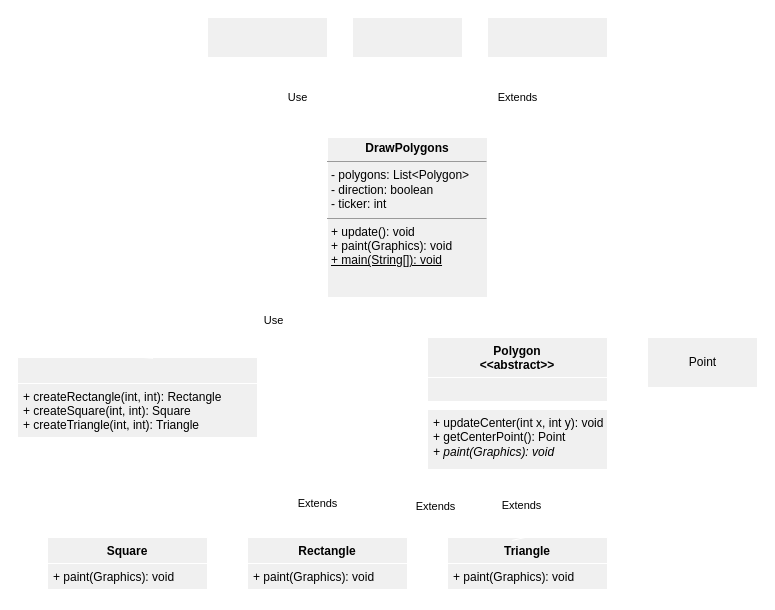
Image size: 775x610. Some labels were removed from this diagram. The box of each missing label's shape, as (x1, y1, x2, y2) in pixels:
- centerPoint: Point: (426, 376, 608, 402)
JComponent: (486, 16, 608, 58)
JFrame: (206, 16, 328, 58)
List: (352, 16, 462, 58)
PolygonFactory: (16, 356, 258, 438)
